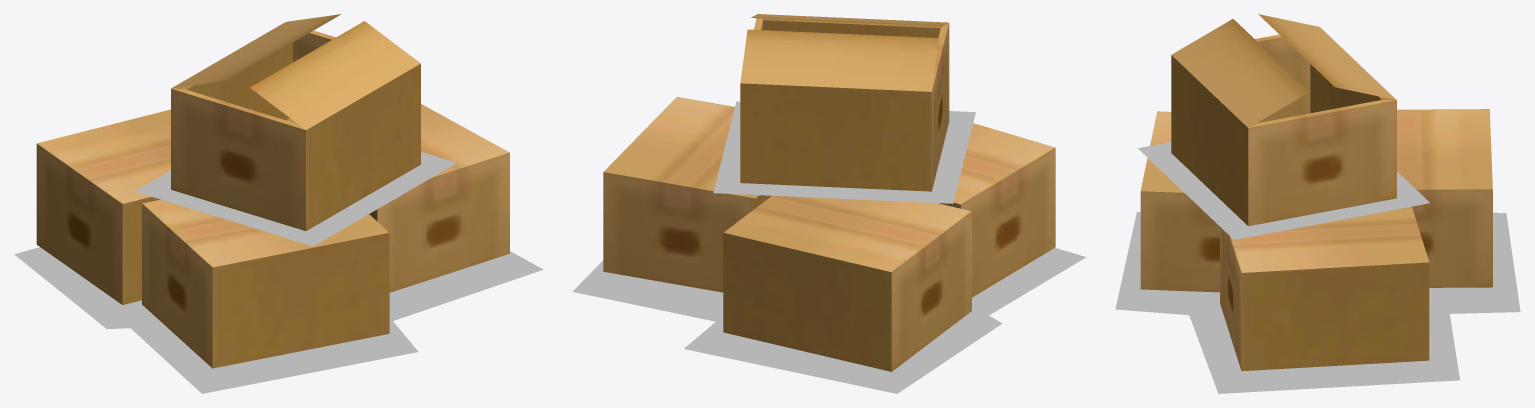
The model's file is danbouru.obj.
3 renders of one model, left to right at view 1: azimuth 30°, elevation 25°; view 2: azimuth 150°, elevation 25°; view 3: azimuth 270°, elevation 25°, orthographic. The views are drawn at different scales.
Parts seen in each view (by area): view 1: polySurface78_polySurface78_danbouru.png, polySurface78_polySurface78_shadow1.png.089; view 2: polySurface78_polySurface78_danbouru.png, polySurface78_polySurface78_shadow1.png.089; view 3: polySurface78_polySurface78_danbouru.png, polySurface78_polySurface78_shadow1.png.089.
Part boxes in pixels (x1,y1,x2,y2): polySurface78_polySurface78_danbouru.png: [36, 14, 509, 368]; polySurface78_polySurface78_shadow1.png.089: [14, 152, 543, 393]; polySurface78_polySurface78_danbouru.png: [603, 14, 1055, 371]; polySurface78_polySurface78_shadow1.png.089: [572, 101, 1086, 393]; polySurface78_polySurface78_danbouru.png: [1140, 14, 1492, 371]; polySurface78_polySurface78_shadow1.png.089: [1115, 142, 1520, 393].
Bounding box in the file's own units: 2.97 × 1.8 × 2.76.
